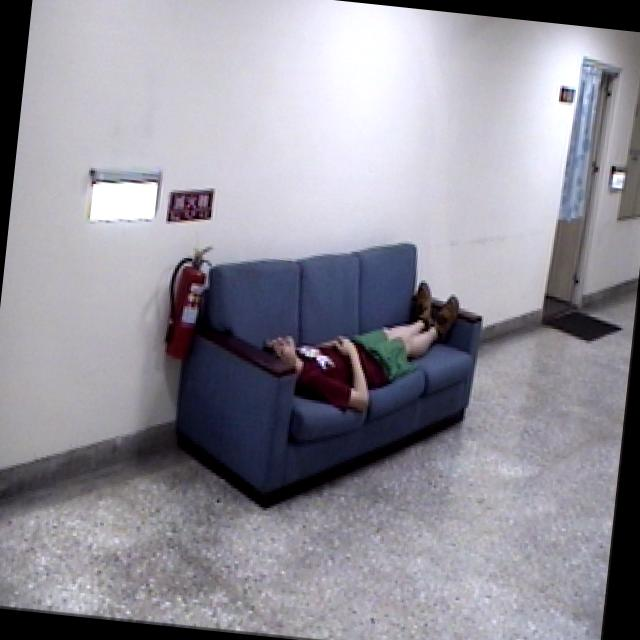lie: (248, 255, 467, 428)
